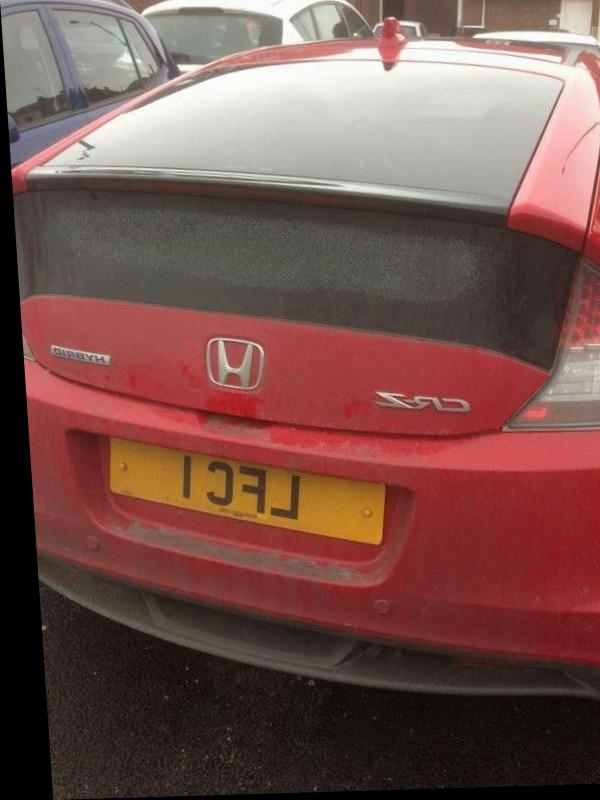License_Plate: (84, 425, 405, 560)
